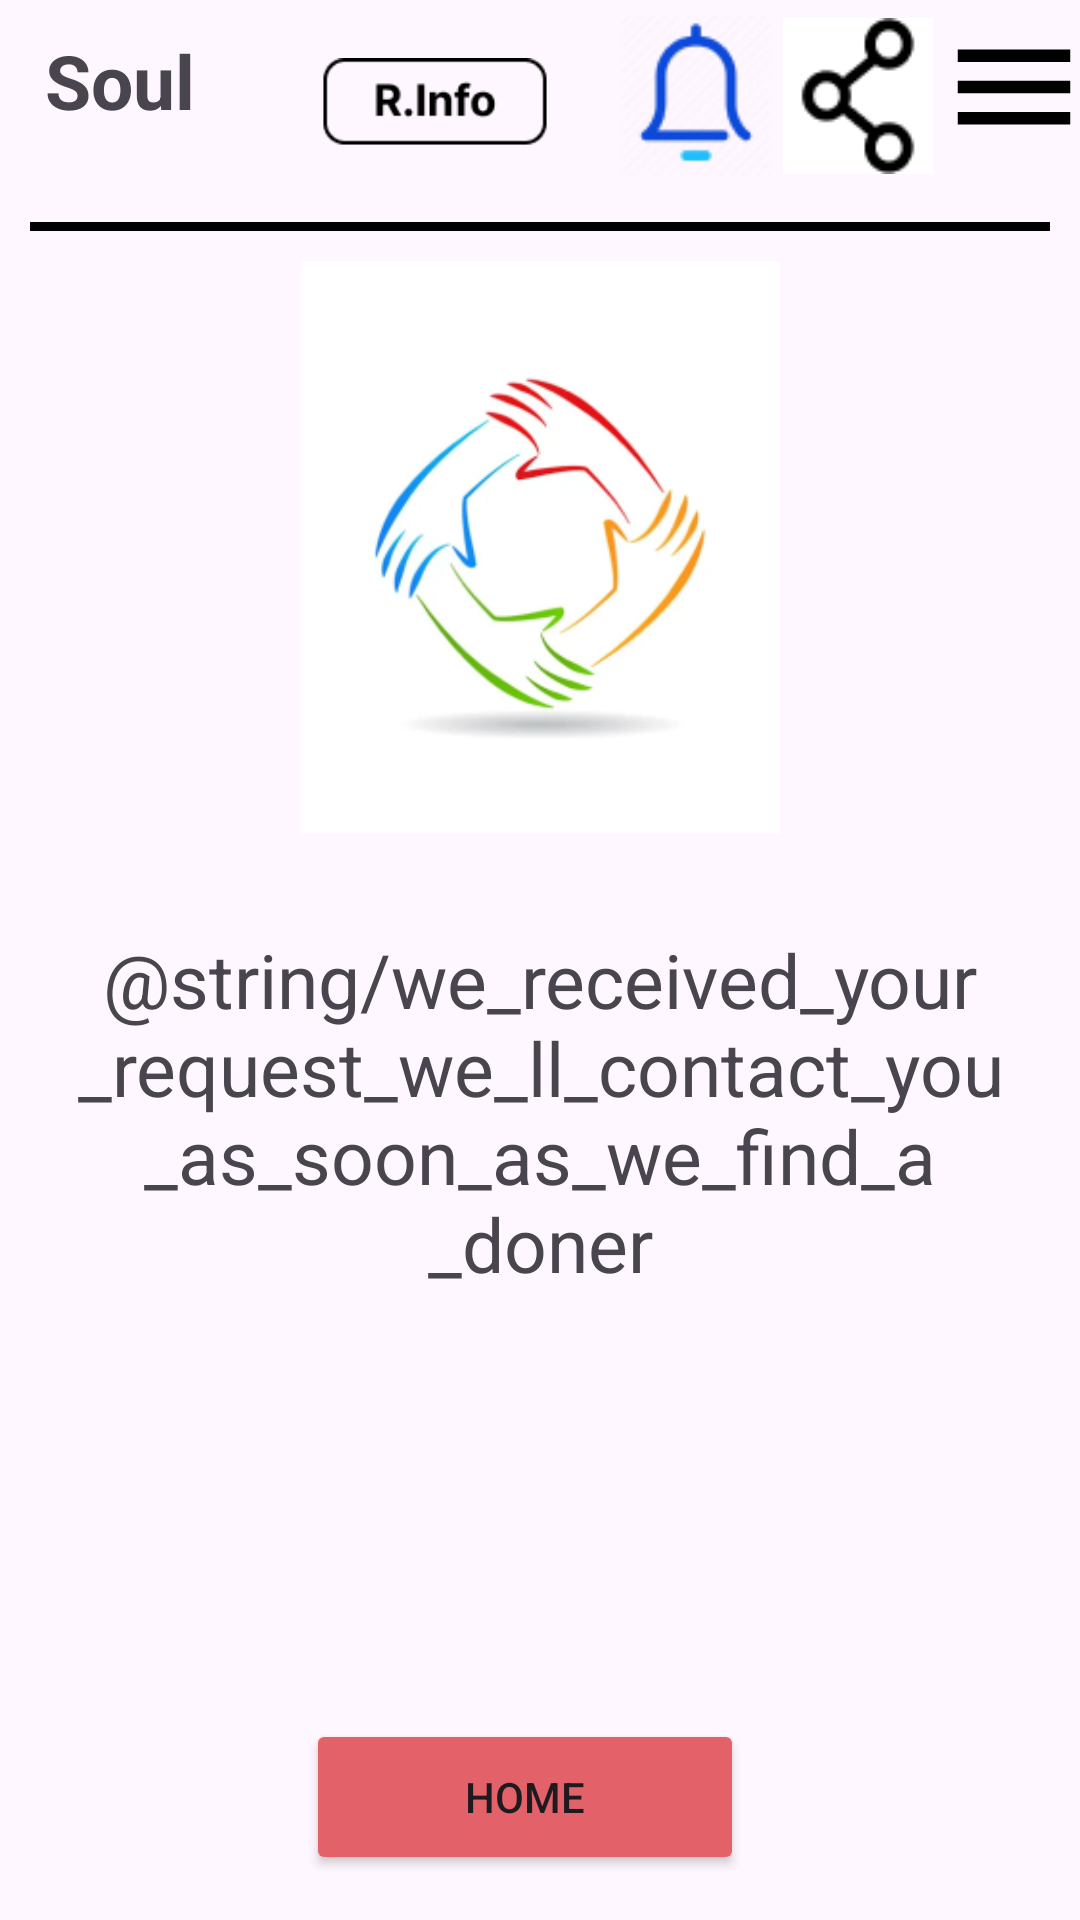

Point at icon controls on the screen. Image size 1080px x 1920px, points as (x,y).
menu: (1014,87)
notification: (696,92)
share: (858,96)
